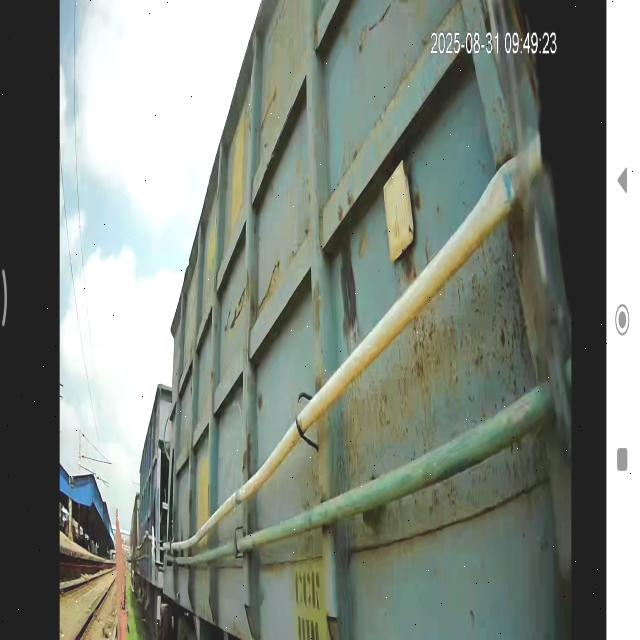coach: (161, 0, 604, 640)
